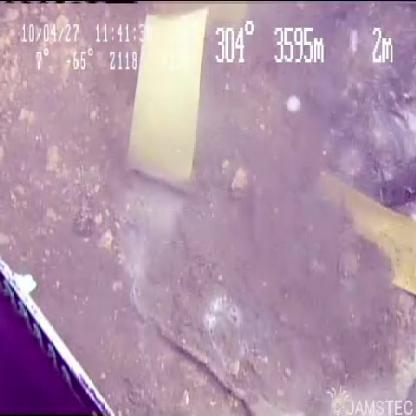Rác: (128, 1, 415, 415)
